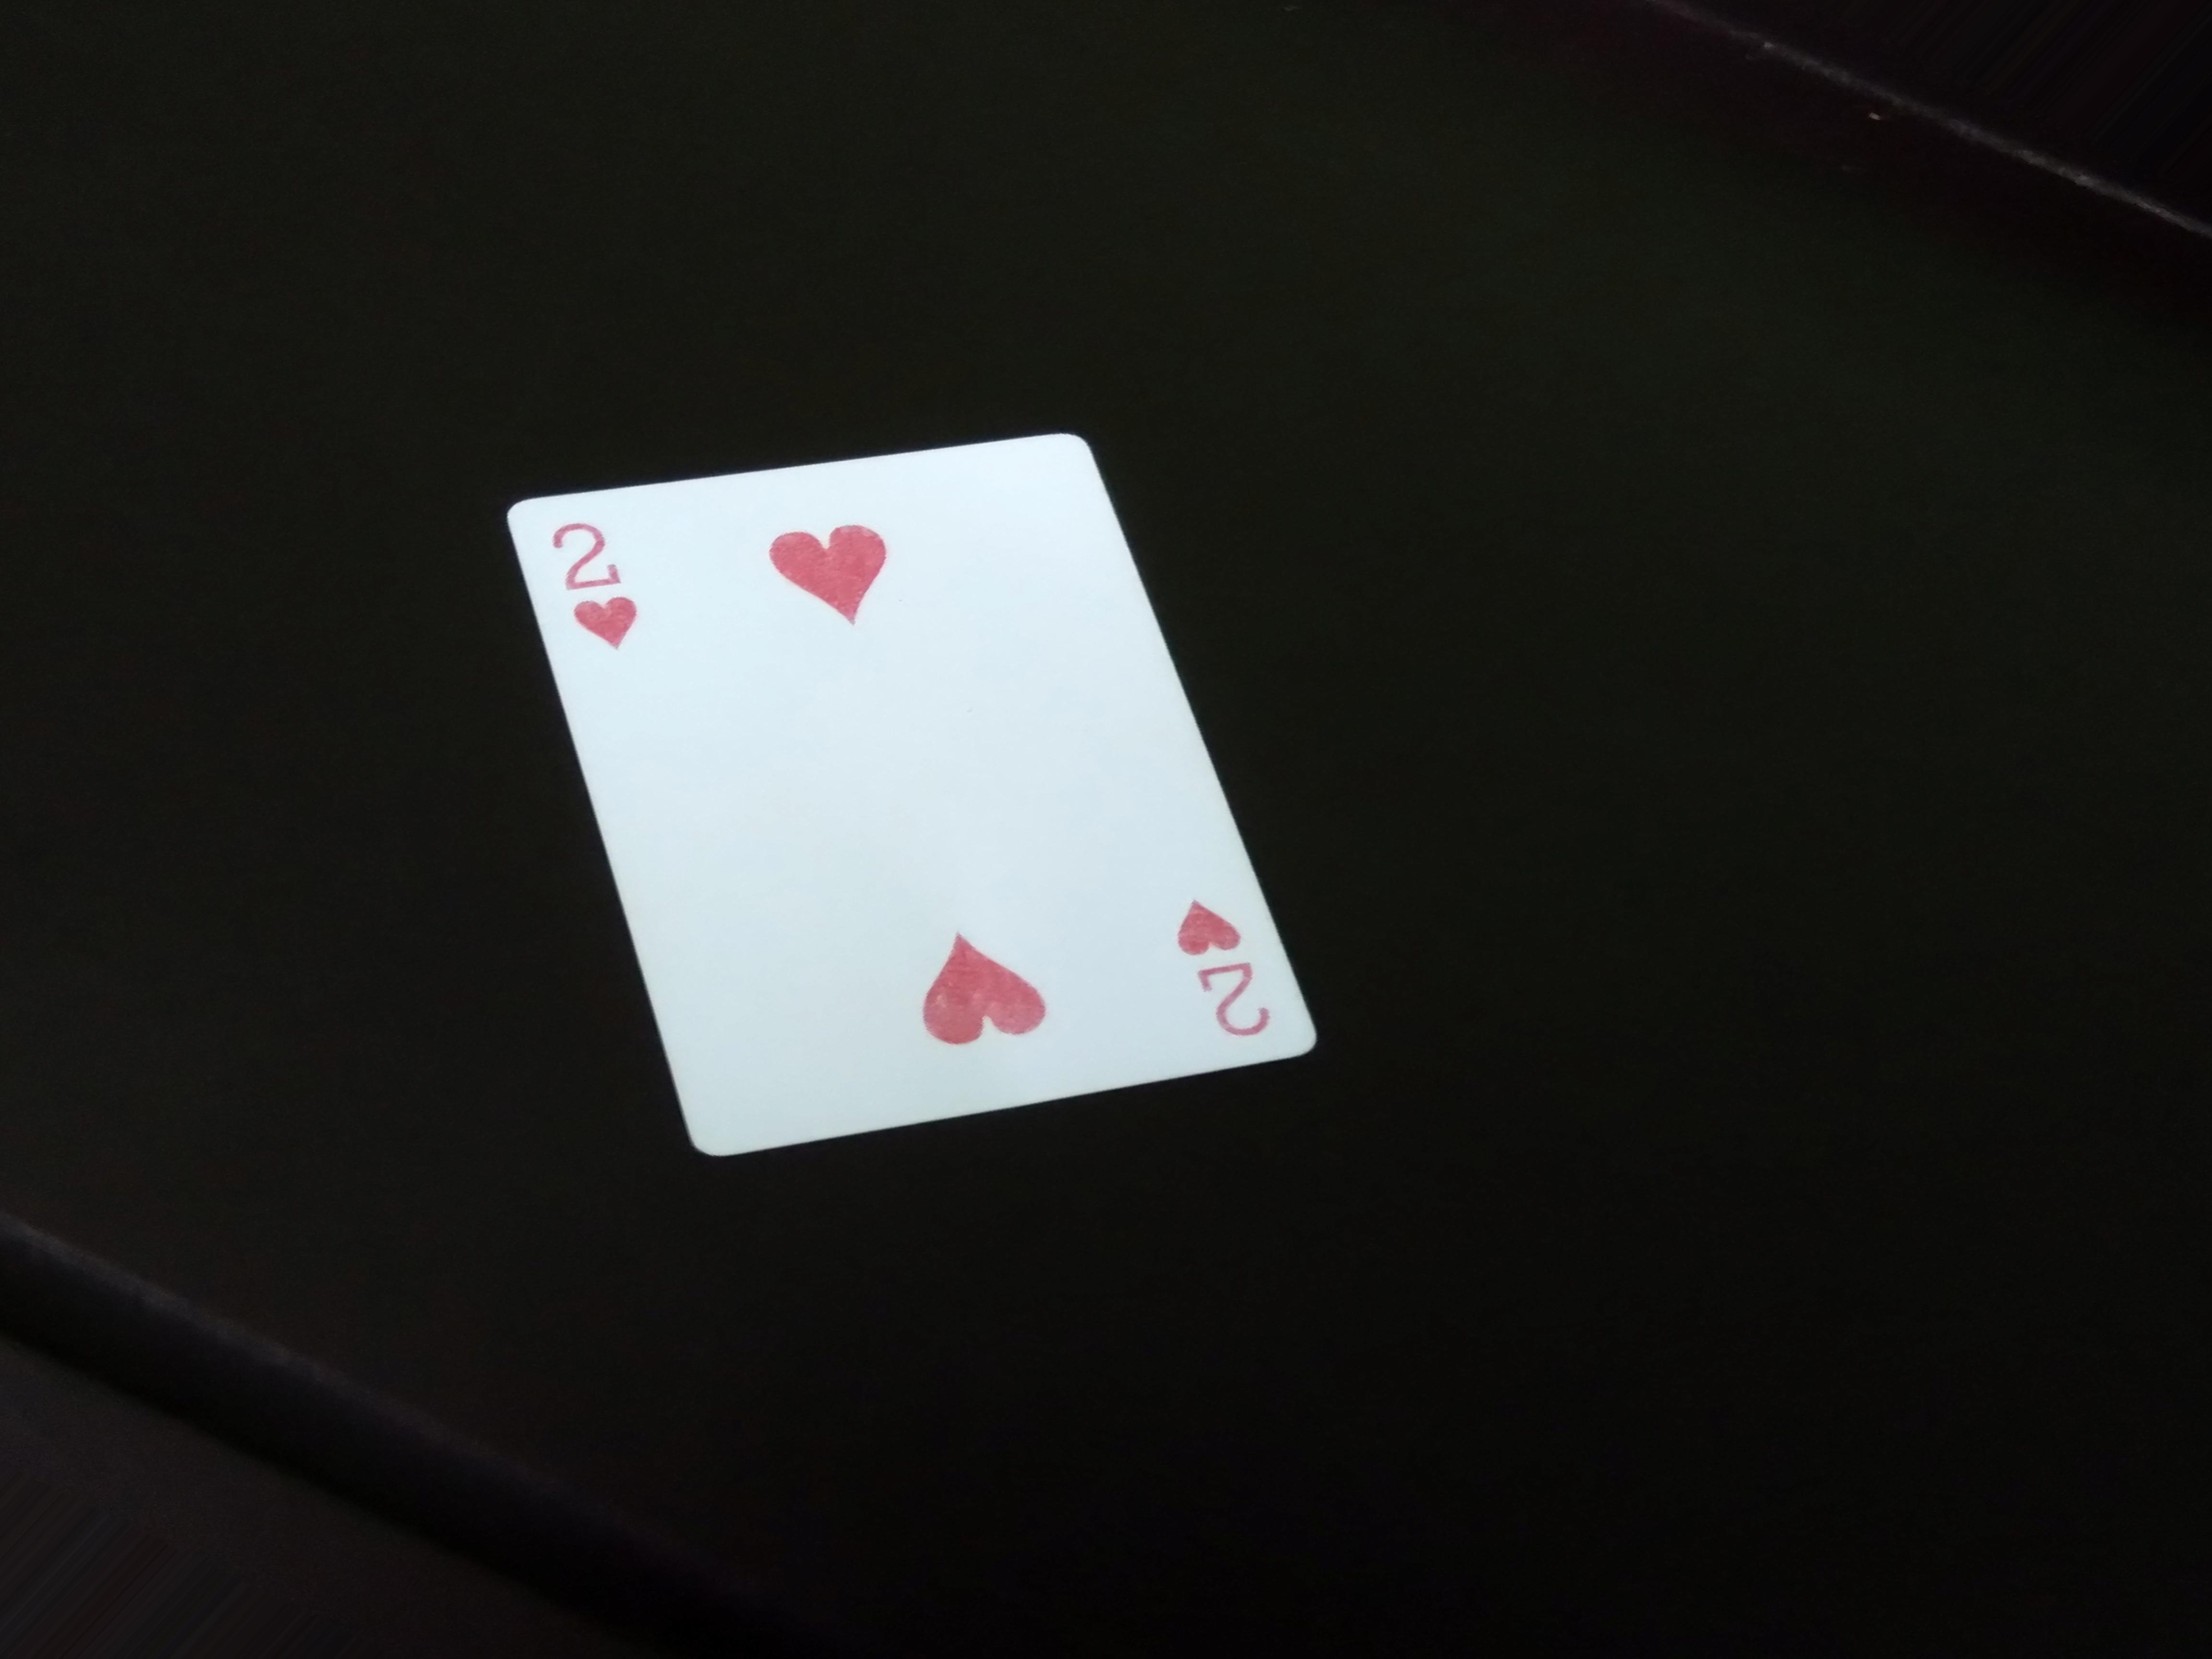2H: (533, 516, 672, 674)
